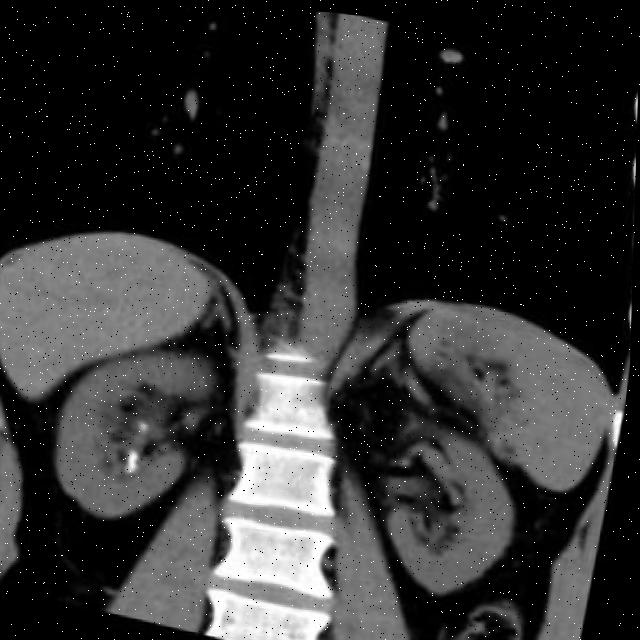Tas_Var: (133, 415, 155, 436), (125, 450, 142, 468), (125, 463, 140, 475), (128, 446, 142, 455)
